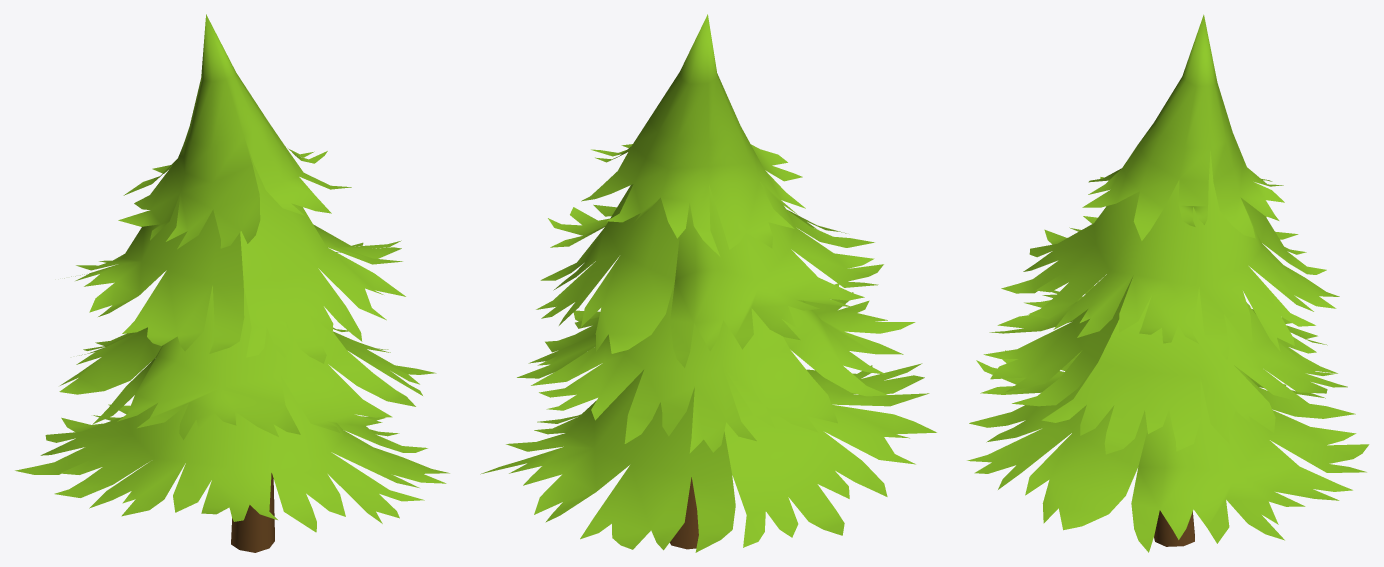
File: prop_tree.FBX
3 views of the same model, side by side, from view 1: azimuth 30°, elevation 25°; view 2: azimuth 150°, elevation 25°; view 3: azimuth 270°, elevation 25° (orthographic). The views are drawn at different scales.
Visible parts, largest first — view 1: prop_tree; view 2: prop_tree; view 3: prop_tree.
Boxes of the visible parts, x1,y1,x2,y2 form: prop_tree: (15,14,449,552); prop_tree: (480,14,936,552); prop_tree: (967,14,1369,552).
Size of the model in its own units: 2.83 by 3.98 by 2.86.
